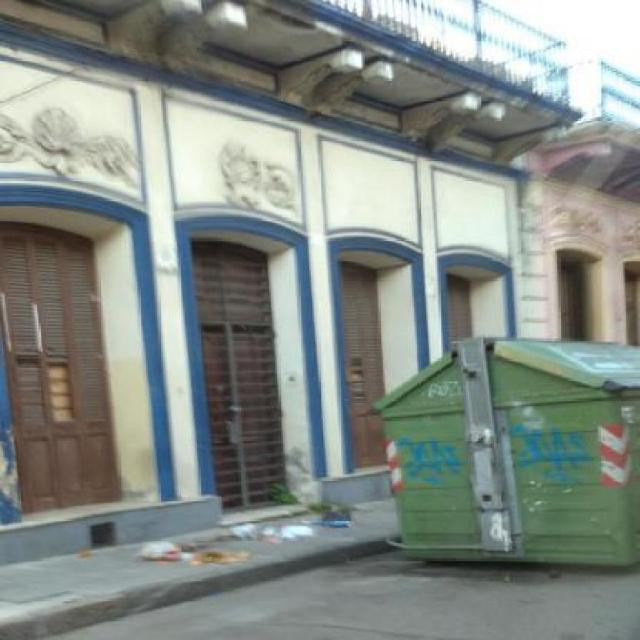garbage: (117, 534, 280, 576), (217, 520, 334, 556), (320, 501, 362, 546)
